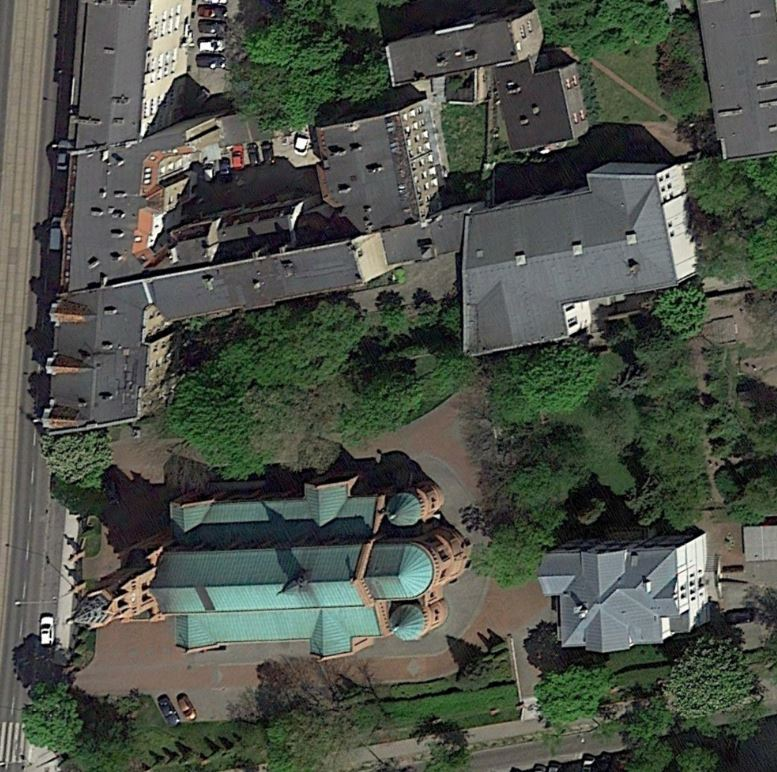block of flats: (25, 1, 235, 459), (449, 150, 718, 376), (517, 510, 752, 688), (375, 2, 616, 172), (285, 89, 449, 324)
church: (45, 460, 493, 683)
